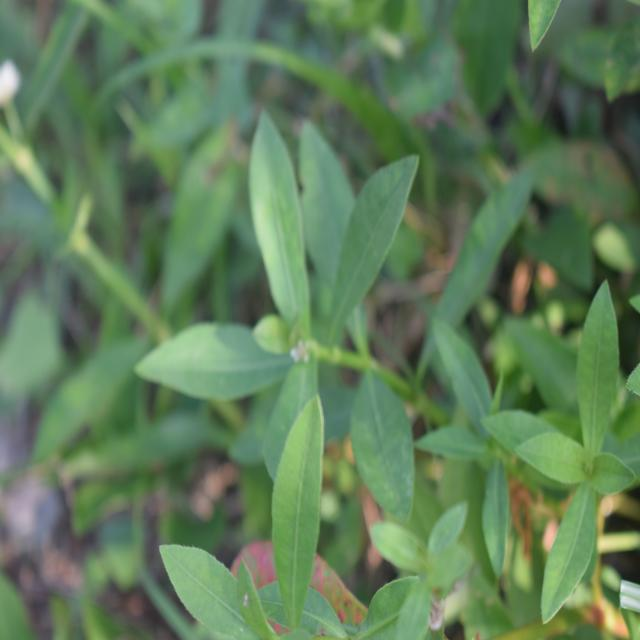Alligatorweed: (136, 102, 455, 553)
